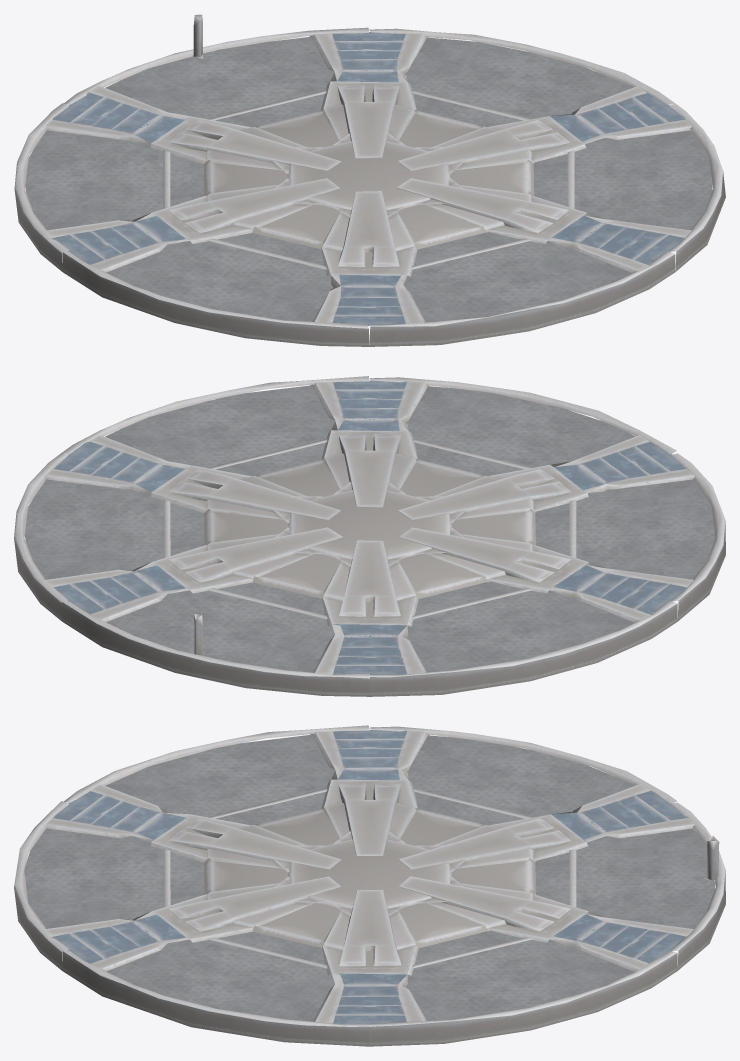
File: Tek Teleporter Large.glb
3 renders of one model, top to bottom at view 1: azimuth 30°, elevation 25°; view 2: azimuth 150°, elevation 25°; view 3: azimuth 270°, elevation 25°, orthographic.
Visible parts, largest first — view 1: SM_TekTeleporter_BIG; view 2: SM_TekTeleporter_BIG; view 3: SM_TekTeleporter_BIG.
Boxes of the visible parts, bbox=[...] form: SM_TekTeleporter_BIG: bbox=[14, 14, 725, 346]; SM_TekTeleporter_BIG: bbox=[14, 376, 725, 696]; SM_TekTeleporter_BIG: bbox=[14, 725, 725, 1046].
Size of the model in its own units: 21.54 by 1.95 by 21.53.
Materials: 1 (1 with a texture image).
